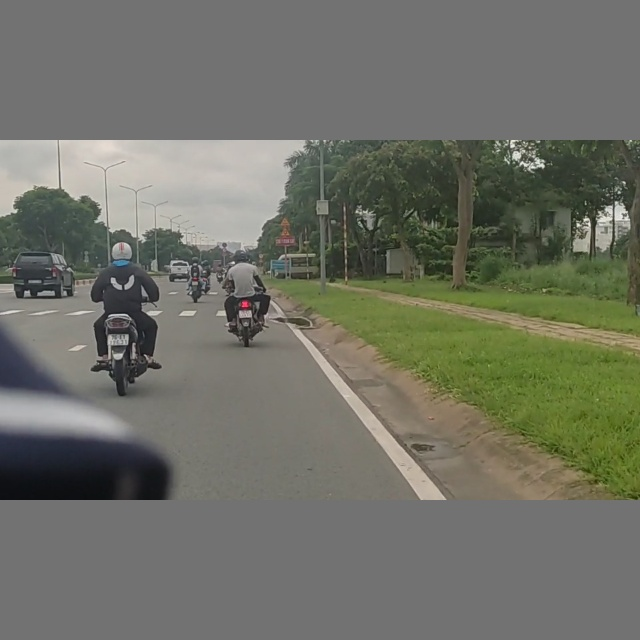P.130: (222, 242, 227, 247)
W.245a: (279, 217, 291, 226)
W.246a: (281, 227, 291, 237)
